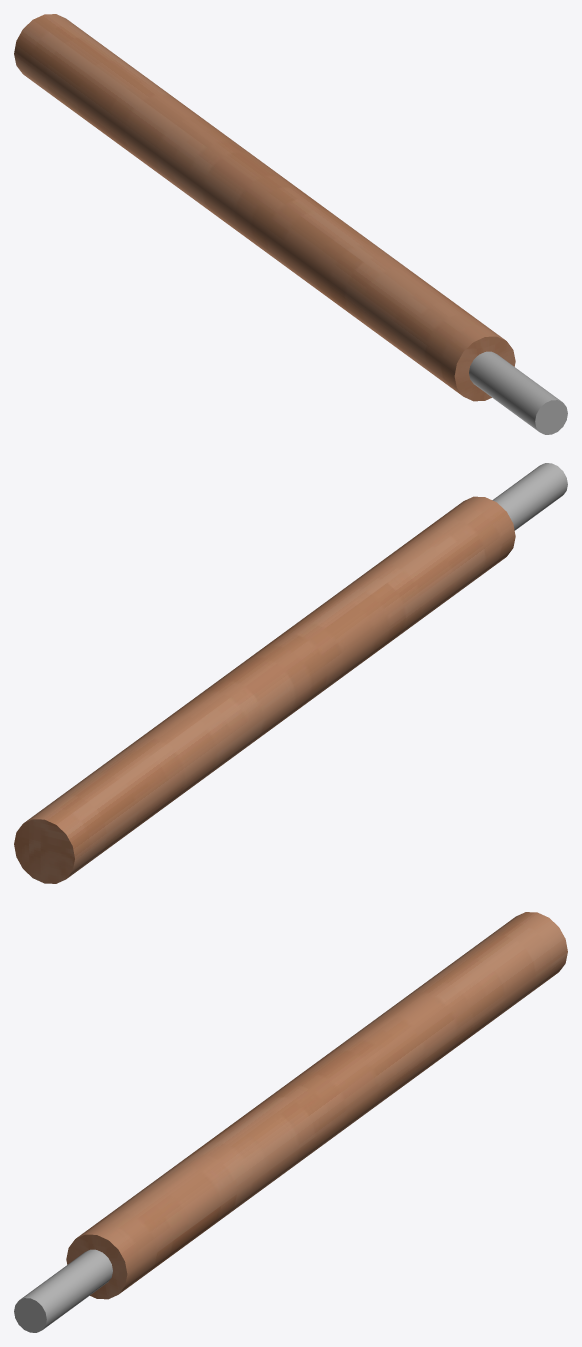
The model's file is Mdl_StickAverage.fbx.
3 views of the same model, one above another, from view 1: azimuth 30°, elevation 25°; view 2: azimuth 150°, elevation 25°; view 3: azimuth 330°, elevation 25° (orthographic).
Visible parts, largest first — view 1: stick; view 2: stick; view 3: stick.
Part boxes in pixels (bbox=[...]): stick: bbox=[14, 14, 567, 434]; stick: bbox=[14, 463, 567, 883]; stick: bbox=[14, 912, 567, 1332].
Bounding box in the file's own units: 7.69 × 7.69 × 111.
2 materials, 1 textured.
